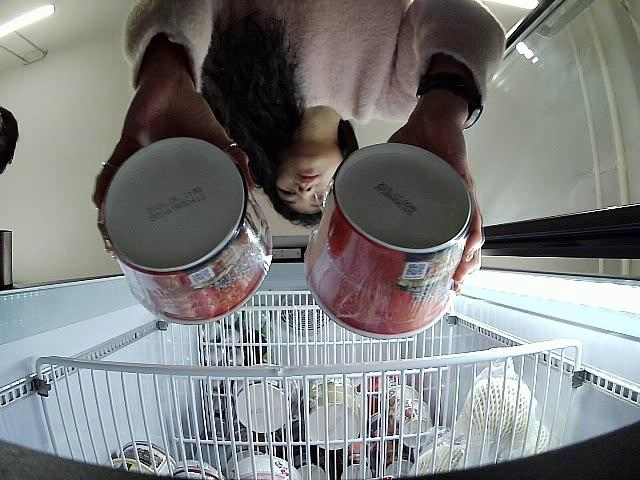00_hand: (91, 89, 257, 256), (387, 109, 485, 281)
01_shinRamen_L: (302, 142, 472, 341), (101, 135, 273, 325)
